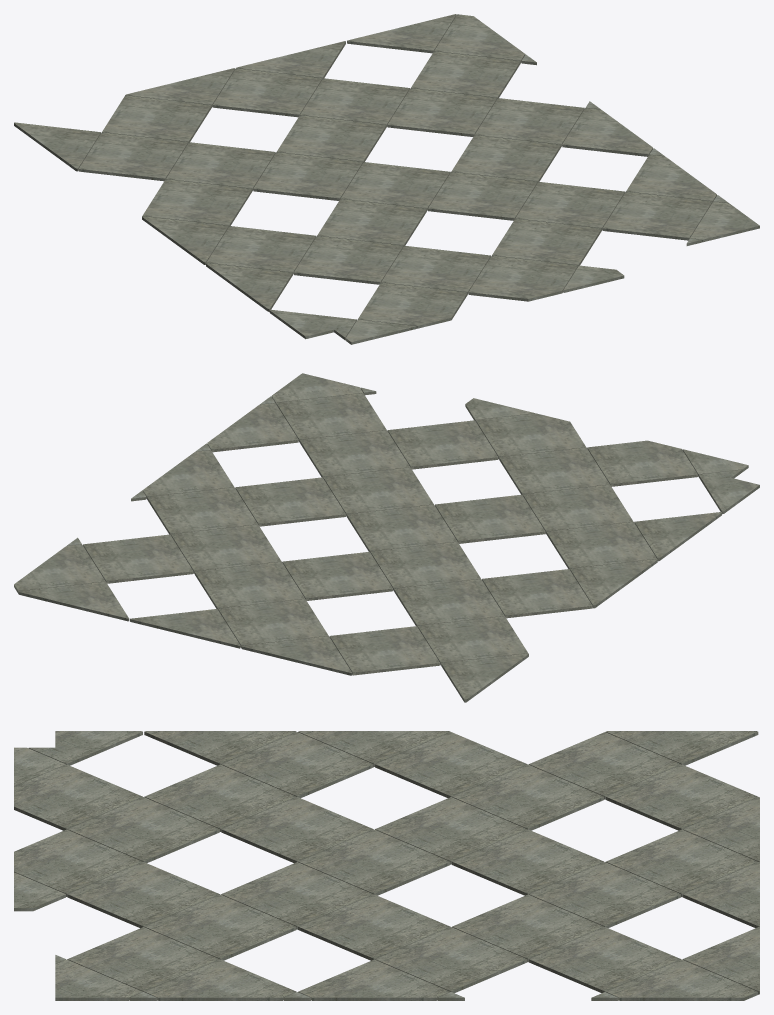
Rendered from ADSK_79.obj.
3 views of the same model, one above another, from view 1: azimuth 30°, elevation 25°; view 2: azimuth 150°, elevation 25°; view 3: azimuth 270°, elevation 25° (orthographic). The views are drawn at different scales.
Bounding box in the file's own units: 1.76 × 0.01 × 2.08.
1 material, 1 textured.
